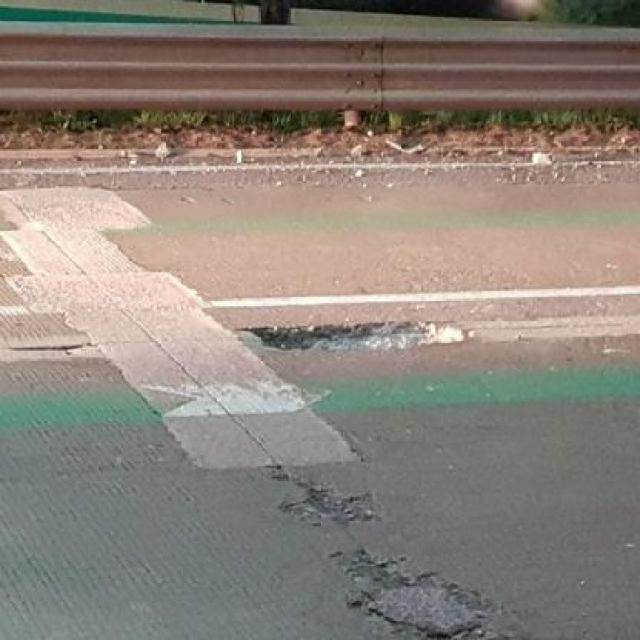Pothole: (328, 538, 489, 639), (244, 304, 473, 358), (283, 480, 382, 526)
